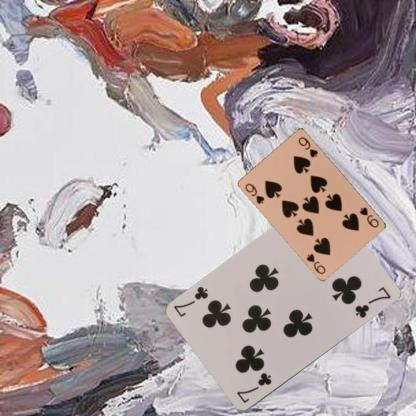7c: (233, 370, 274, 405)
9s: (357, 204, 380, 229), (243, 181, 266, 205)
